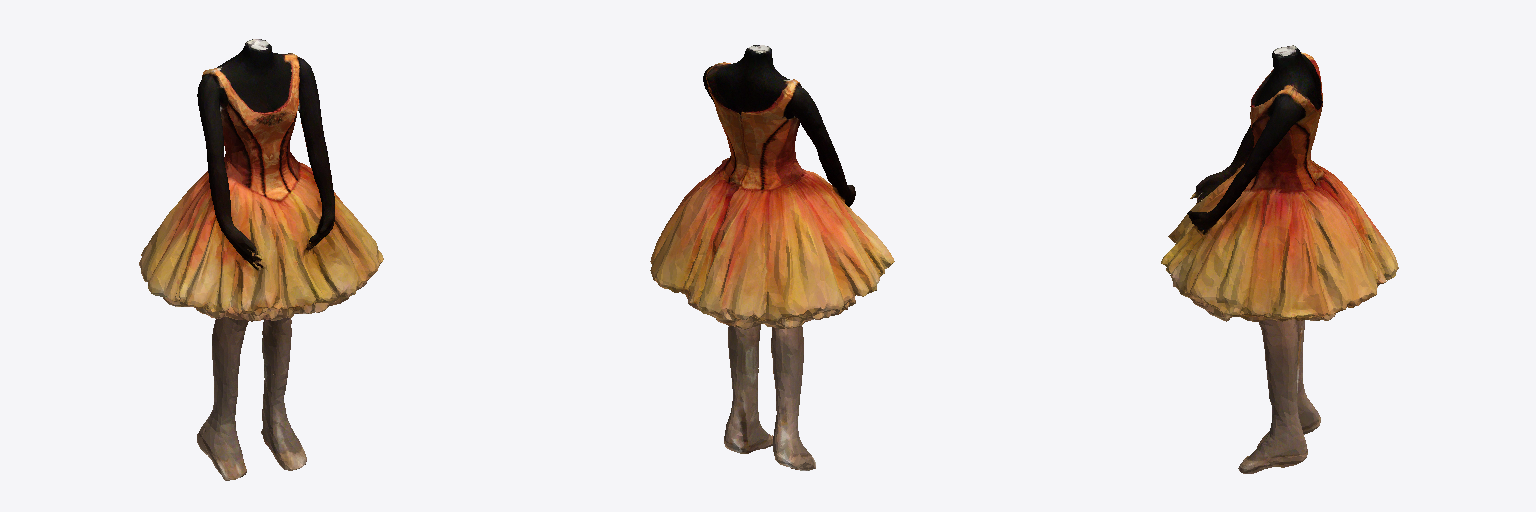
The picture shows the model from 3 angles: view 1: azimuth 30°, elevation 25°; view 2: azimuth 150°, elevation 25°; view 3: azimuth 270°, elevation 25°; orthographic projection.
Parts seen in each view (by area): view 1: model_mesh.001; view 2: model_mesh.001; view 3: model_mesh.001.
Boxes of the visible parts, x1,y1,x2,y2 form: model_mesh.001: [139, 39, 383, 480]; model_mesh.001: [650, 45, 894, 470]; model_mesh.001: [1161, 45, 1398, 473].
Bounding box in the file's own units: 0.5398 × 1.01 × 0.5179.
Materials: 1 (1 with a texture image).